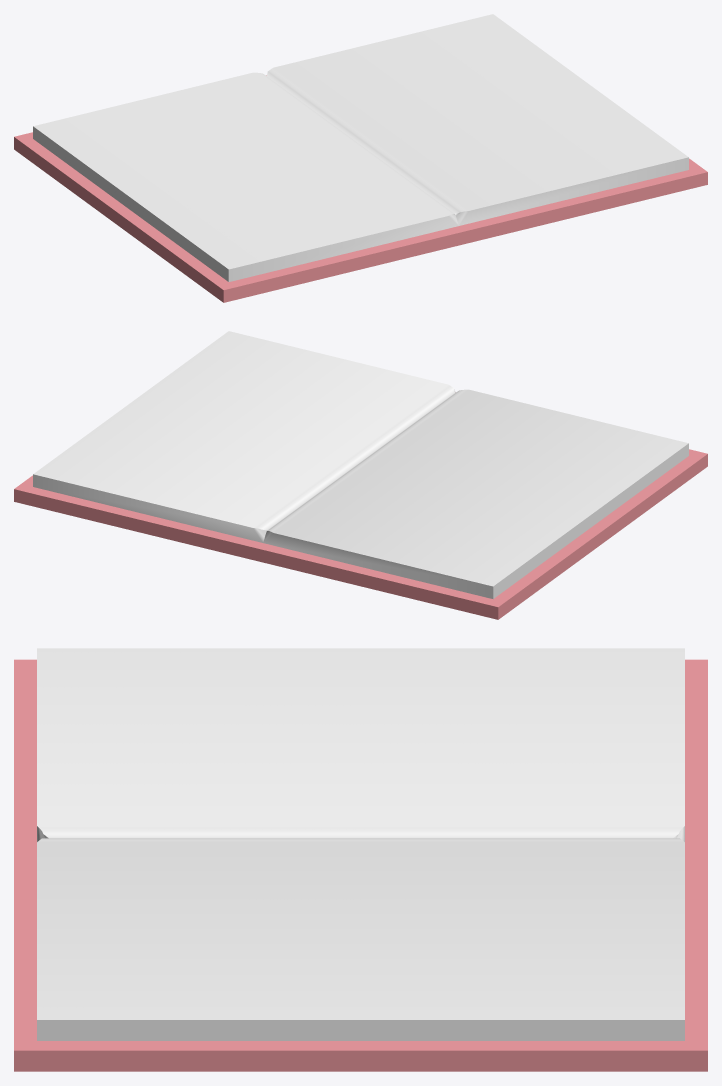
Rendered from Book_correction.fbx.
3 renders of one model, top to bottom at view 1: azimuth 30°, elevation 25°; view 2: azimuth 150°, elevation 25°; view 3: azimuth 270°, elevation 25°, orthographic. The views are drawn at different scales.
Parts seen in each view (by area): view 1: Book-Open; view 2: Book-Open; view 3: Book-Open.
Part boxes in pixels (x1=…): Book-Open: x1=14, y1=14, x2=707, y2=302; Book-Open: x1=14, y1=331, x2=707, y2=619; Book-Open: x1=14, y1=648, x2=707, y2=1071.
Size of the model in its own units: 459 by 22.95 by 344.
